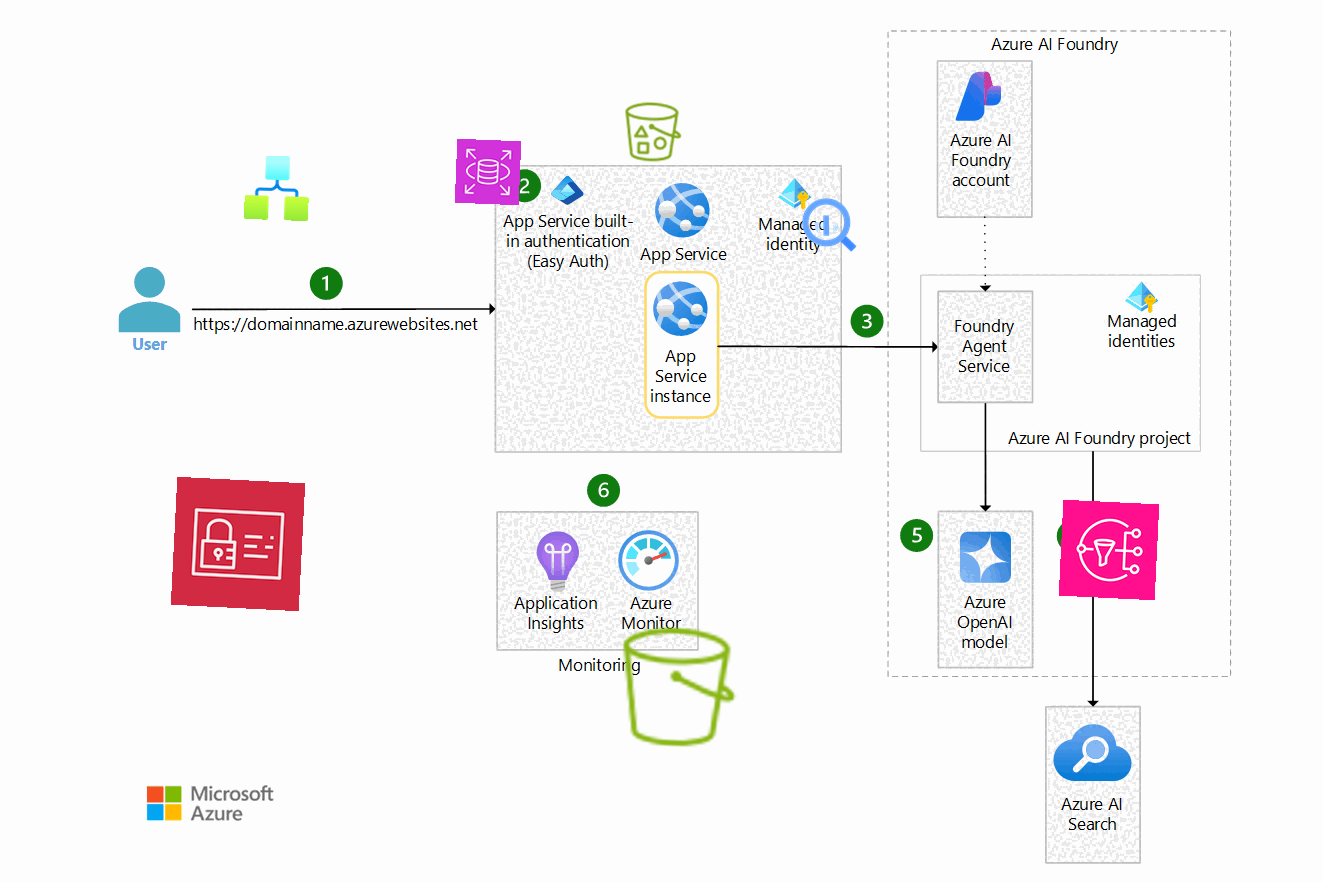aws_amazon_rds: (454, 138, 522, 206)
aws_amazon_simple_notification_service: (1058, 499, 1160, 601)
aws_identity_and_access_management: (170, 476, 306, 612)
aws_simple_storage_service_bucket_with_objects: (620, 99, 686, 165)
aws_simple_storage_service_s3_standard: (611, 620, 745, 754)
azure_logic_apps: (243, 154, 311, 222)
gcp_bigquery: (796, 192, 862, 258)
